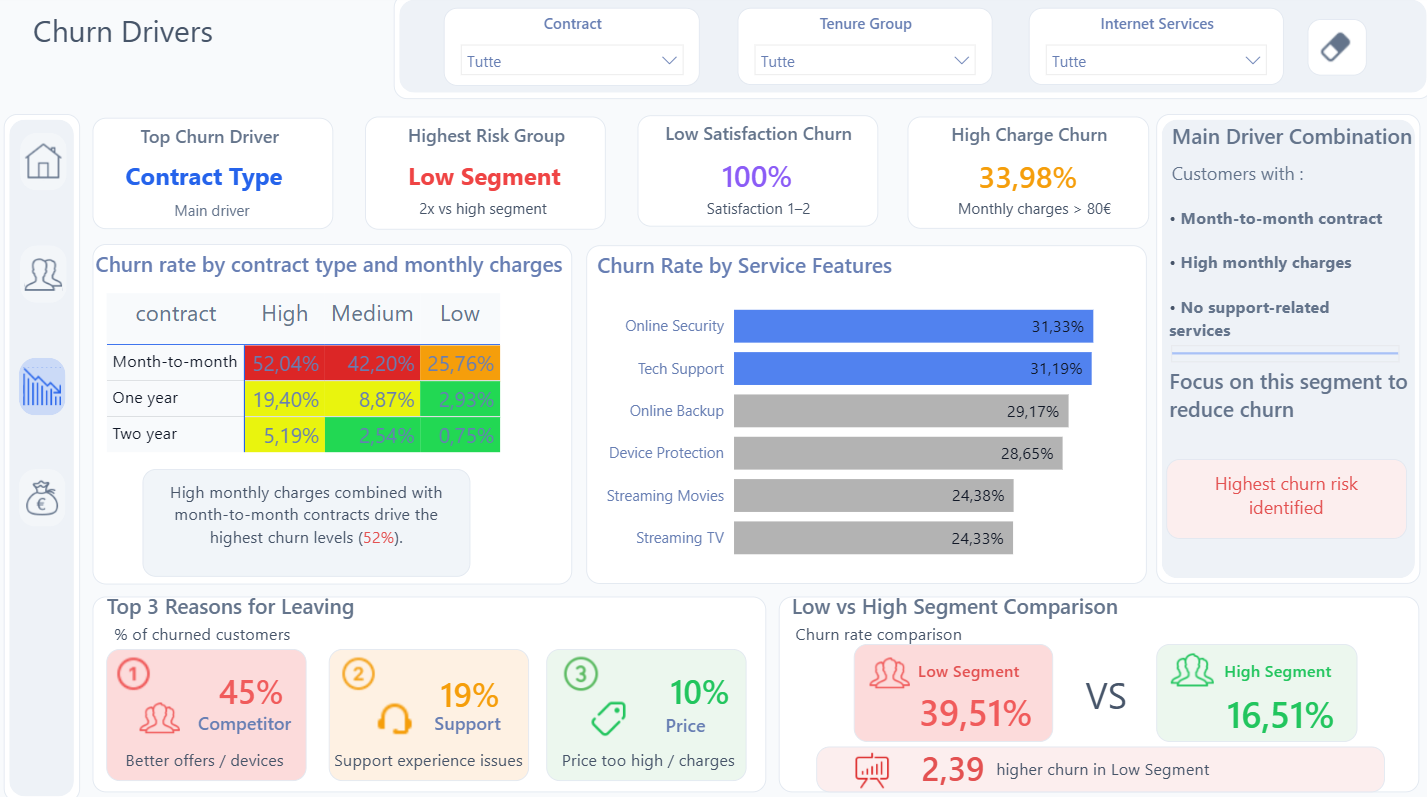

The dashboard page shown, as its layout file describes it:
{"tool":"powerbi","page":{"name":"Churn Drivers","canvas":[1280,720],"ordinal":2},"visuals":[{"type":"shape","box":[87.1,222.1,427,303.1],"z":0},{"type":"shape","box":[354.6,0,925.2,93.3],"z":1000},{"type":"slicer","title":"Contract","fields":{"Values":["customer_churn.contract"]},"box":[400,12.3,228.2,69.9],"z":2000},{"type":"slicer","title":"Tenure Group","fields":{"Values":["customer_churn.tenure_group"]},"box":[660.7,12.3,227,68.7],"z":3000},{"type":"slicer","title":"Internet Services","fields":{"Values":["customer_churn.internet_service"]},"box":[920.3,12.3,227,68.7],"z":4000},{"type":"textbox","box":[29.4,8.6,309.2,57.7],"z":5000},{"type":"shape","box":[8.1,107,67.8,613],"z":6000},{"type":"actionButton","box":[1169.3,22.1,52.8,50.3],"z":7000},{"type":"card","title":"Low Satisfaction Churn","fields":{"Values":["Misure.Low Satisfaction Churn Rate"]},"box":[571.8,108,214,99.4],"z":8000},{"type":"card","title":"High Charge Churn","fields":{"Values":["Misure.High Charge Churn Rate"]},"box":[813.1,109,215.4,99.6],"z":9000},{"type":"shape","box":[86.9,110,214.5,99.1],"z":10000},{"type":"textbox","box":[124.9,110,138.5,33.9],"z":11000},{"type":"textbox","box":[111.3,142.6,165.6,43.4],"z":12000},{"type":"textbox","box":[154.8,176.5,86.9,32.6],"z":13000},{"type":"shape","box":[329.9,108.6,214.5,100.5],"z":14000},{"type":"textbox","box":[362.5,108.6,168.4,44.8],"z":15000},{"type":"textbox","box":[362.5,142.6,165.6,43.4],"z":16000},{"type":"textbox","box":[373.4,175.1,154.8,32.6],"z":17000},{"type":"textbox","box":[628.6,175.1,154.8,32.6],"z":18000},{"type":"textbox","box":[852.6,175.1,191.4,32.6],"z":19000},{"type":"pivotTable","title":"Churn Rate Matrix: Contract Type vs Monthly Charges","fields":{"Rows":["customer_churn.contract"],"Columns":["customer_churn.Price Band"],"Values":["Misure.churn rate %"]},"box":[95,262,411.4,168.4],"z":20000},{"type":"textbox","box":[131.3,423.3,292,95.7],"z":21000},{"type":"textbox","box":[84.2,222.7,473.8,55.7],"z":22000},{"type":"barChart","title":"Churn Rate by Service Features","fields":{"Category":["Service Features.Service"],"Y":["Service Features.Churn Rate by Service"]},"box":[526.4,223.5,499.5,301.6],"z":23000},{"type":"shape","box":[87.1,536.2,600,174.2],"z":24000},{"type":"shape","box":[98.7,583.3,178.2,117.9],"z":25000},{"type":"card","fields":{"Values":["status.Churn Reason %"]},"box":[184.6,578.2,87.2,88.5],"z":26000},{"type":"shape","box":[297.4,583.3,178.2,117.9],"z":27000},{"type":"shape","box":[491,583.3,178.2,117.9],"z":28000},{"type":"card","fields":{"Values":["status.Churn Reason %"]},"box":[379.5,579.5,87.2,88.5],"z":29000},{"type":"card","fields":{"Values":["status.Churn Reason %"]},"box":[584.6,578.2,87.2,88.5],"z":30000},{"type":"textbox","box":[175.5,633.1,104.3,33.1],"z":31000},{"type":"textbox","box":[386.5,633.1,95.7,33.1],"z":32000},{"type":"textbox","box":[592.6,634.4,47.9,33.1],"z":33000},{"type":"actionButton","box":[101.8,582.8,56.4,44.2],"z":34000},{"type":"actionButton","box":[301.8,582.8,56.4,44.2],"z":35000},{"type":"actionButton","box":[499.4,582.8,45.4,44.2],"z":36000},{"type":"actionButton","box":[125.2,623.3,56.4,44.2],"z":37000},{"type":"actionButton","box":[333.7,623.3,56.4,44.2],"z":38000},{"type":"actionButton","box":[523.9,623.3,56.4,44.2],"z":39000},{"type":"textbox","box":[111.7,666.3,168.1,33.1],"z":40000},{"type":"textbox","box":[296.9,666.3,198.8,33.1],"z":41000},{"type":"textbox","box":[499.4,666.3,198.8,33.1],"z":42000},{"type":"textbox","box":[94.5,527.6,473.6,55.2],"z":43000},{"type":"textbox","box":[101.8,554.6,496.9,33.1],"z":44000},{"type":"shape","box":[698.2,536.2,570.6,174.2],"z":45000},{"type":"shape","box":[764.4,579.1,177.9,87.1],"z":46000},{"type":"shape","box":[1034.4,579.1,179.1,87.1],"z":47000},{"type":"card","fields":{"Values":["Misure.churn rate %"]},"box":[817.2,596.4,113.1,87.5],"z":48000},{"type":"card","fields":{"Values":["Misure.churn rate %"]},"box":[1089.1,597.7,113.1,87.5],"z":49000},{"type":"actionButton","box":[774.2,582.8,56.4,44.2],"z":50000},{"type":"textbox","box":[817.2,587.7,104.3,33.1],"z":51000},{"type":"textbox","box":[1089.6,587.7,114.1,33.1],"z":52000},{"type":"actionButton","box":[1043,577.9,46.6,49.1],"z":53000},{"type":"textbox","box":[957.1,597.5,69.9,72.4],"z":54000},{"type":"textbox","box":[731.3,669.9,506.8,40.5],"z":55000},{"type":"textbox","box":[704.3,527.6,473.6,55.2],"z":56000},{"type":"textbox","box":[708,554.6,496.9,33.1],"z":57000},{"type":"card","fields":{"Values":["Misure.Churn Ratio Segment"]},"box":[811,662.6,83.4,55.2],"z":58000},{"type":"actionButton","box":[760.7,669.9,41.7,42.9],"z":59000},{"type":"shape","box":[1033.9,106.4,235.6,418.7],"z":60000},{"type":"textbox","box":[1043.3,109,226.2,55.2],"z":61000},{"type":"textbox","box":[1040.6,144,204.6,211.4],"z":62000},{"type":"textbox","box":[1043.3,144,154.8,32.3],"z":63000},{"type":"textbox","box":[1043.3,414.6,214.1,71.4],"z":64000},{"type":"shape","box":[1047.4,312.3,203.3,14.8],"z":65000},{"type":"textbox","box":[1040.6,327.1,226.2,71.4],"z":66000},{"type":"actionButton","box":[22.1,123.9,41.7,51.5],"z":67000},{"type":"actionButton","box":[22.1,223.7,41.7,51.5],"z":68000},{"type":"actionButton","box":[20.9,423.3,41.7,51.5],"z":69000},{"type":"actionButton","box":[20.9,323.5,41.7,51.5],"z":70000}]}

Visuals, with their boxes in screenshot pixels (x1, y1, x2, y2), scaled from the page's 1280x720 canvas onto the 1427x797 screenshot:
shape: (97,246,573,581)
shape: (395,0,1426,103)
"Contract" slicer: (446,14,700,91)
"Tenure Group" slicer: (737,14,990,90)
"Internet Services" slicer: (1026,14,1279,90)
textbox: (33,10,377,73)
shape: (9,118,85,796)
actionButton: (1304,24,1362,80)
"Low Satisfaction Churn" card: (637,120,876,230)
"High Charge Churn" card: (906,121,1147,231)
shape: (97,122,336,231)
textbox: (139,122,294,159)
textbox: (124,158,309,206)
textbox: (173,195,269,231)
shape: (368,120,607,231)
textbox: (404,120,592,170)
textbox: (404,158,589,206)
textbox: (416,194,589,230)
textbox: (701,194,873,230)
textbox: (951,194,1164,230)
"Churn Rate Matrix: Contract Type vs Monthly Charges" pivotTable: (106,290,565,476)
textbox: (146,469,472,575)
textbox: (94,247,622,308)
"Churn Rate by Service Features" barChart: (587,247,1144,581)
shape: (97,594,766,786)
shape: (110,646,309,776)
card - status.Churn Reason %: (206,640,303,738)
shape: (332,646,530,776)
shape: (547,646,746,776)
card - status.Churn Reason %: (423,641,520,739)
card - status.Churn Reason %: (652,640,749,738)
textbox: (196,701,312,737)
textbox: (431,701,538,737)
textbox: (661,702,714,739)
actionButton: (113,645,176,694)
actionButton: (336,645,399,694)
actionButton: (557,645,607,694)
actionButton: (140,690,202,739)
actionButton: (372,690,435,739)
actionButton: (584,690,647,739)
textbox: (125,738,312,774)
textbox: (331,738,553,774)
textbox: (557,738,778,774)
textbox: (105,584,633,645)
textbox: (113,614,667,651)
shape: (778,594,1415,786)
shape: (852,641,1051,737)
shape: (1153,641,1353,737)
card - Misure.churn rate %: (911,660,1037,757)
card - Misure.churn rate %: (1214,662,1340,758)
actionButton: (863,645,926,694)
textbox: (911,651,1027,687)
textbox: (1215,651,1342,687)
actionButton: (1163,640,1215,694)
textbox: (1067,661,1145,742)
textbox: (815,742,1380,786)
textbox: (785,584,1313,645)
textbox: (789,614,1343,651)
card - Misure.Churn Ratio Segment: (904,733,997,795)
actionButton: (848,742,895,789)
shape: (1153,118,1415,581)
textbox: (1163,121,1415,182)
textbox: (1160,159,1388,393)
textbox: (1163,159,1336,195)
textbox: (1163,459,1402,538)
shape: (1168,346,1394,362)
textbox: (1160,362,1412,441)
actionButton: (25,137,71,194)
actionButton: (25,248,71,305)
actionButton: (23,469,70,526)
actionButton: (23,358,70,415)
